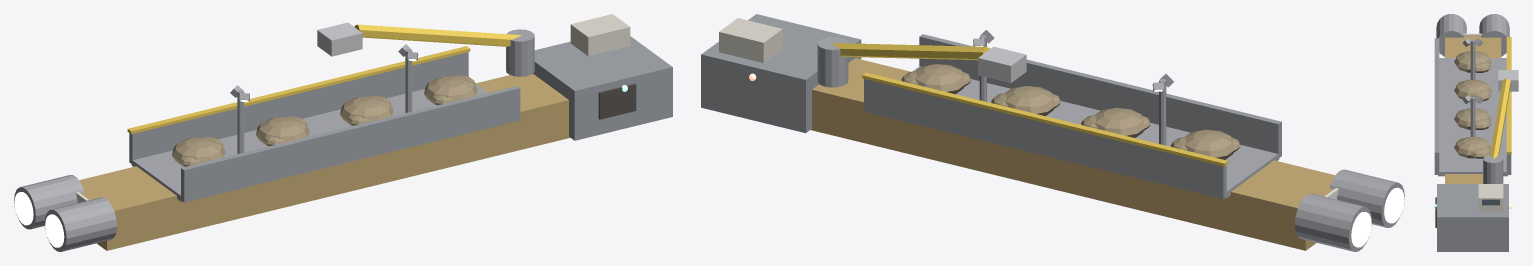
File: ore_barge_b.glb
The picture shows the model from 3 angles, left to right: view 1: azimuth 30°, elevation 25°; view 2: azimuth 150°, elevation 25°; view 3: azimuth 270°, elevation 25°; orthographic projection. The views are drawn at different scales.
Parts seen in each view (by area): view 1: brg_spine, brg_trough_s, brg_bow, brg_trough_p, brg_trough_floor, brg_drive_s_shroud, brg_trough_rim, brg_boom_jib, brg_cab_pod, brg_drive_p_shroud, brg_boom_pivot, brg_boom_scoop (+9 smaller); view 2: brg_spine, brg_trough_p, brg_bow, brg_trough_s, brg_trough_floor, brg_drive_p_shroud, brg_trough_rim, brg_cab_pod, brg_drive_s_shroud, brg_boom_jib, brg_boom_pivot, brg_boom_scoop (+7 smaller); view 3: brg_trough_floor, brg_bow, brg_spine, brg_trough_s, brg_drive_s_shroud, brg_boom_jib, brg_drive_p_shroud, brg_cab_pod, brg_boom_pivot, brg_trough_rim, brg_ore0_0, brg_ore2_0 (+11 smaller).
Part boxes in pixels (left/top/right/bottom): brg_spine: left=79, top=74, right=570, bottom=250; brg_trough_s: left=181, top=86, right=520, bottom=202; brg_bow: left=533, top=36, right=672, bottom=140; brg_trough_p: left=129, top=52, right=468, bottom=163; brg_trough_floor: left=131, top=84, right=488, bottom=201; brg_drive_s_shroud: left=45, top=197, right=116, bottom=251; brg_trough_rim: left=127, top=46, right=470, bottom=134; brg_boom_jib: left=354, top=24, right=521, bottom=46; brg_cab_pod: left=570, top=14, right=630, bottom=56; brg_drive_p_shroud: left=14, top=175, right=84, bottom=229; brg_boom_pivot: left=506, top=29, right=534, bottom=76; brg_boom_scoop: left=317, top=22, right=362, bottom=56; brg_spine: left=811, top=58, right=1335, bottom=250; brg_trough_p: left=864, top=79, right=1226, bottom=198; brg_bow: left=701, top=14, right=861, bottom=133; brg_trough_s: left=919, top=34, right=1281, bottom=158; brg_trough_floor: left=900, top=66, right=1279, bottom=198; brg_drive_p_shroud: left=1295, top=193, right=1371, bottom=251; brg_trough_rim: left=862, top=72, right=1228, bottom=166; brg_cab_pod: left=719, top=18, right=782, bottom=62; brg_drive_s_shroud: left=1329, top=169, right=1404, bottom=227; brg_boom_jib: left=831, top=43, right=990, bottom=60; brg_boom_pivot: left=817, top=37, right=848, bottom=87; brg_boom_scoop: left=978, top=46, right=1026, bottom=82; brg_trough_floor: left=1438, top=58, right=1507, bottom=176; brg_bow: left=1437, top=184, right=1508, bottom=251; brg_spine: left=1445, top=36, right=1501, bottom=183; brg_trough_s: left=1434, top=38, right=1439, bottom=174; brg_drive_s_shroud: left=1436, top=14, right=1466, bottom=56; brg_boom_jib: left=1490, top=78, right=1510, bottom=158; brg_drive_p_shroud: left=1479, top=14, right=1509, bottom=56; brg_cab_pod: left=1478, top=184, right=1503, bottom=211; brg_boom_pivot: left=1483, top=155, right=1503, bottom=183; brg_trough_rim: left=1506, top=37, right=1511, bottom=154; brg_ore0_0: left=1454, top=137, right=1491, bottom=158; brg_ore2_0: left=1454, top=80, right=1491, bottom=99.
Size of the model in its own units: 43.44 by 8.31 by 7.57.
